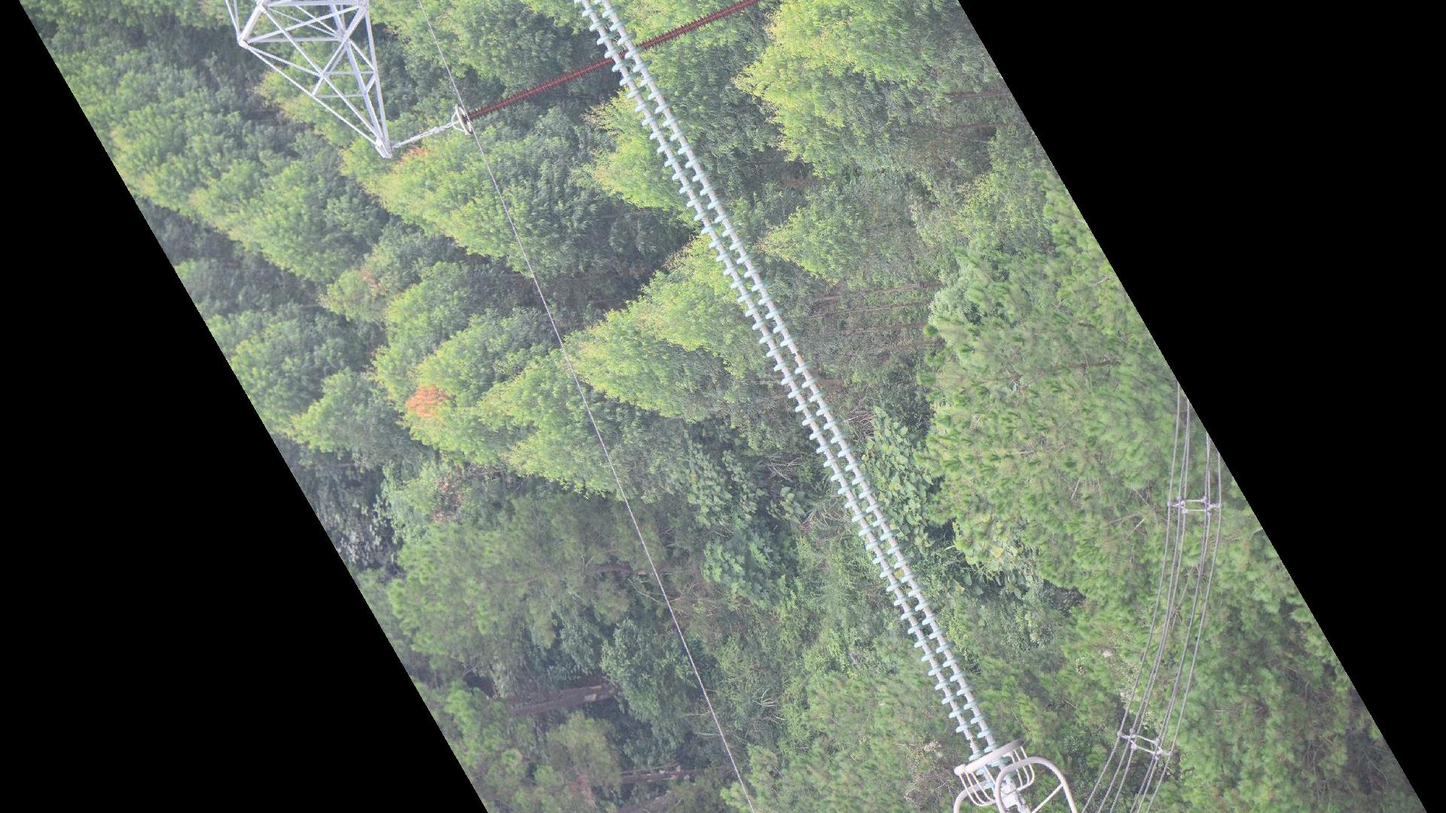insulator: (571, 1, 1005, 762), (455, 1, 770, 129)
insulator_stringdrop: (779, 332, 816, 377), (952, 719, 986, 762)
